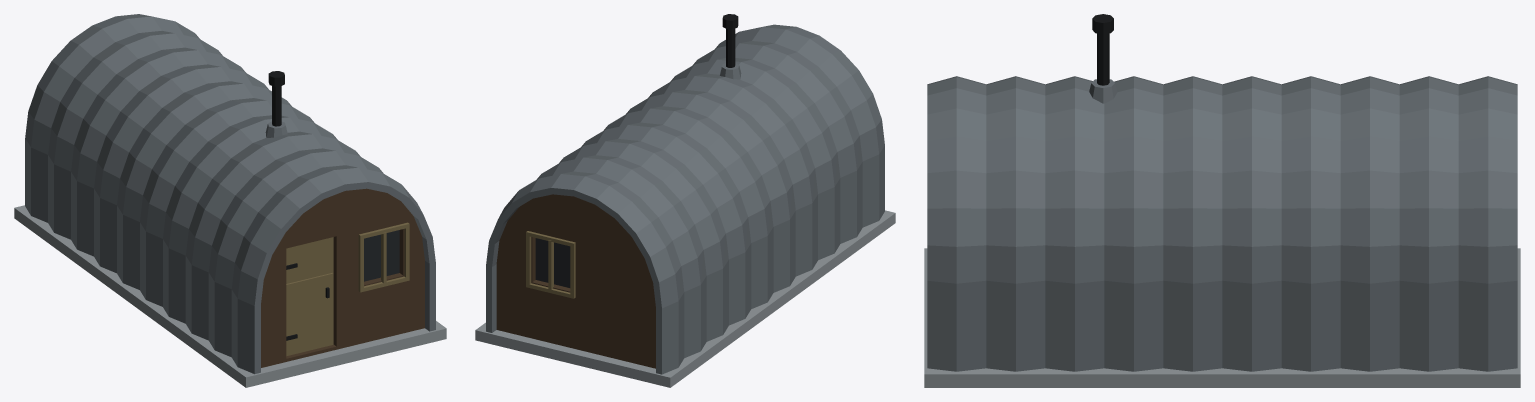
File: nissen-hut-dafb56.glb
3 renders of one model, left to right at view 1: azimuth 30°, elevation 25°; view 2: azimuth 150°, elevation 25°; view 3: azimuth 270°, elevation 25°, orthographic. The views are drawn at different scales.
Visible parts, largest first — view 1: nissen-hut, door, flue; view 2: nissen-hut, flue; view 3: nissen-hut, flue.
Part boxes in pixels (x1=…): nissen-hut: x1=14, y1=14, x2=446, y2=387; door: x1=286, y1=237, x2=333, y2=356; flue: x1=265, y1=71, x2=287, y2=137; nissen-hut: x1=475, y1=24, x2=895, y2=387; flue: x1=720, y1=14, x2=741, y2=79; nissen-hut: x1=924, y1=76, x2=1520, y2=387; flue: x1=1089, y1=14, x2=1117, y2=103.
Bounding box in the file's own units: 4 × 4.53 × 8.
